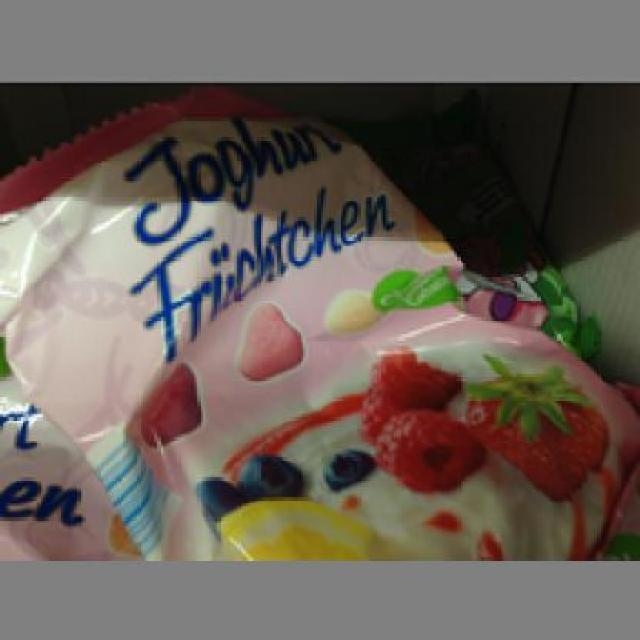Candy: (0, 93, 632, 555)
